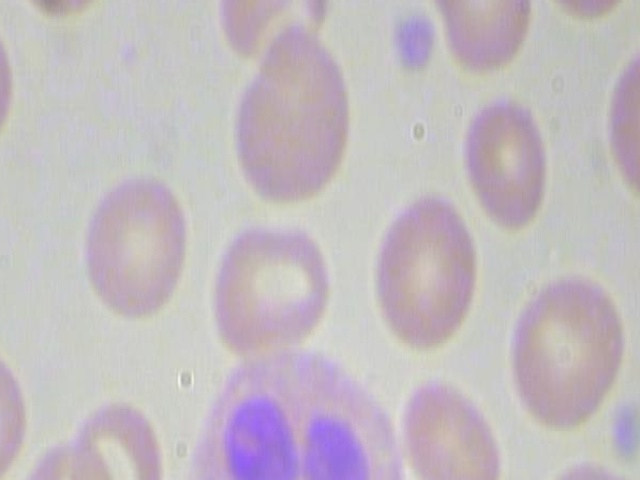Platelets: (378, 0, 443, 87), (612, 401, 640, 463)
RBC: (223, 24, 359, 211), (507, 257, 632, 435), (355, 189, 483, 355), (204, 195, 332, 361), (64, 154, 191, 320), (459, 88, 550, 229), (397, 373, 504, 480), (64, 386, 175, 480), (417, 0, 538, 81), (0, 334, 35, 480), (517, 441, 640, 480), (526, 0, 640, 37), (0, 0, 123, 29)
WBC: (166, 340, 409, 480)
